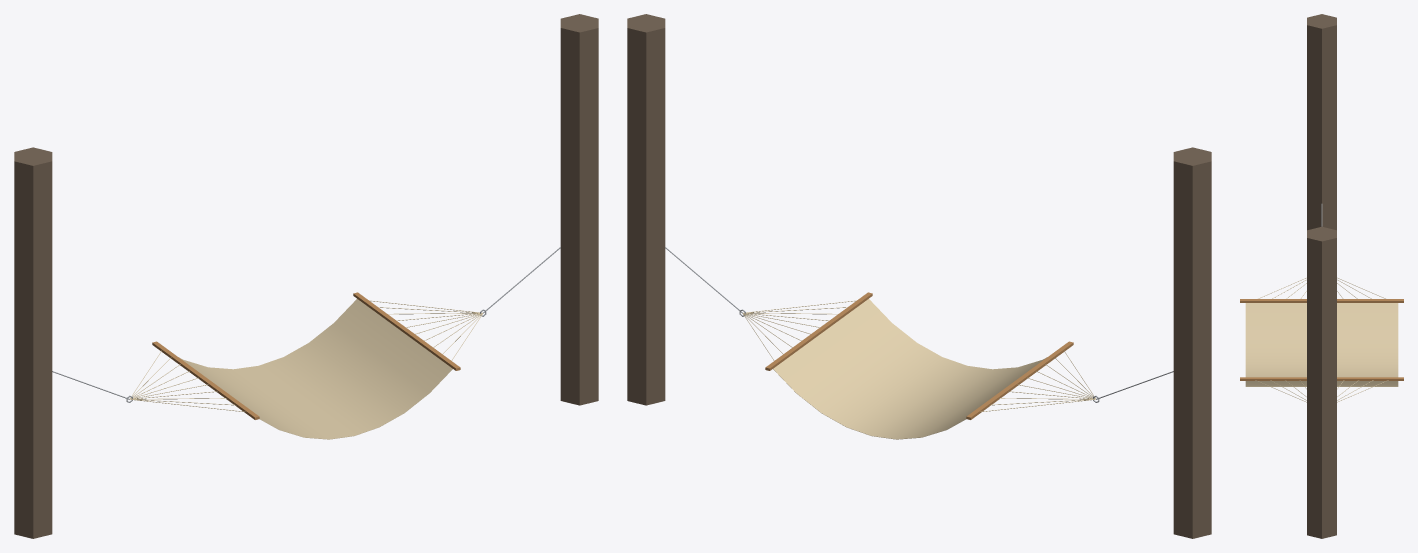
Rendered from hammock_spreader_rope.far.glb.
3 renders of one model, left to right at view 1: azimuth 30°, elevation 25°; view 2: azimuth 150°, elevation 25°; view 3: azimuth 270°, elevation 25°, orthographic. The views are drawn at different scales.
Parts seen in each view (by area): view 1: hammock_spreader_rope, bed_hammock_spreader_rope; view 2: hammock_spreader_rope, bed_hammock_spreader_rope; view 3: hammock_spreader_rope, bed_hammock_spreader_rope.
Boxes of the visible parts, bbox=[...] form: hammock_spreader_rope: bbox=[14, 14, 598, 538]; bed_hammock_spreader_rope: bbox=[52, 247, 560, 439]; hammock_spreader_rope: bbox=[627, 14, 1211, 538]; bed_hammock_spreader_rope: bbox=[665, 247, 1173, 439]; hammock_spreader_rope: bbox=[1307, 14, 1336, 538]; bed_hammock_spreader_rope: bbox=[1240, 204, 1403, 402].
Size of the model in its own units: 4.92 by 3 by 1.5.
